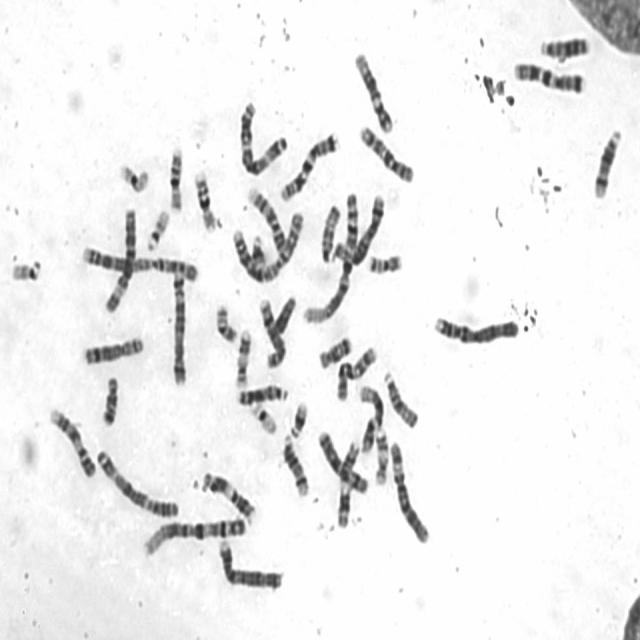A1: (302, 191, 361, 325), (140, 513, 247, 558)
A2: (229, 207, 305, 285), (79, 240, 199, 283)
A3: (93, 446, 180, 522), (236, 96, 290, 178)
B4: (216, 535, 284, 592), (431, 310, 519, 348)
B5: (328, 190, 386, 268), (168, 269, 189, 388)
C10: (357, 122, 416, 184), (333, 342, 378, 403)
C11: (199, 469, 256, 522), (334, 440, 359, 530)
C12: (352, 48, 395, 135), (356, 384, 384, 454)
C6: (388, 436, 432, 544), (101, 204, 138, 314)
C7: (278, 130, 340, 203), (511, 58, 587, 96)
C8: (256, 294, 287, 370), (81, 332, 145, 368)
C9: (47, 404, 96, 480), (244, 183, 286, 253)
D13: (537, 32, 590, 60), (235, 381, 288, 408)
D14: (591, 124, 623, 200), (279, 432, 310, 498)
D15: (382, 367, 419, 431), (318, 200, 341, 266)
E16: (192, 167, 218, 234), (167, 144, 185, 214)
E17: (233, 326, 253, 391), (371, 425, 390, 487)
E18: (316, 332, 353, 372), (99, 373, 120, 427)
F19: (117, 160, 151, 194), (248, 399, 278, 436)
F20: (213, 300, 238, 344), (365, 250, 404, 275)
G21: (288, 397, 309, 439), (249, 230, 268, 268)
G22: (144, 206, 171, 253), (8, 256, 42, 284)
X: (316, 427, 370, 496)
Y: (271, 291, 298, 336)
